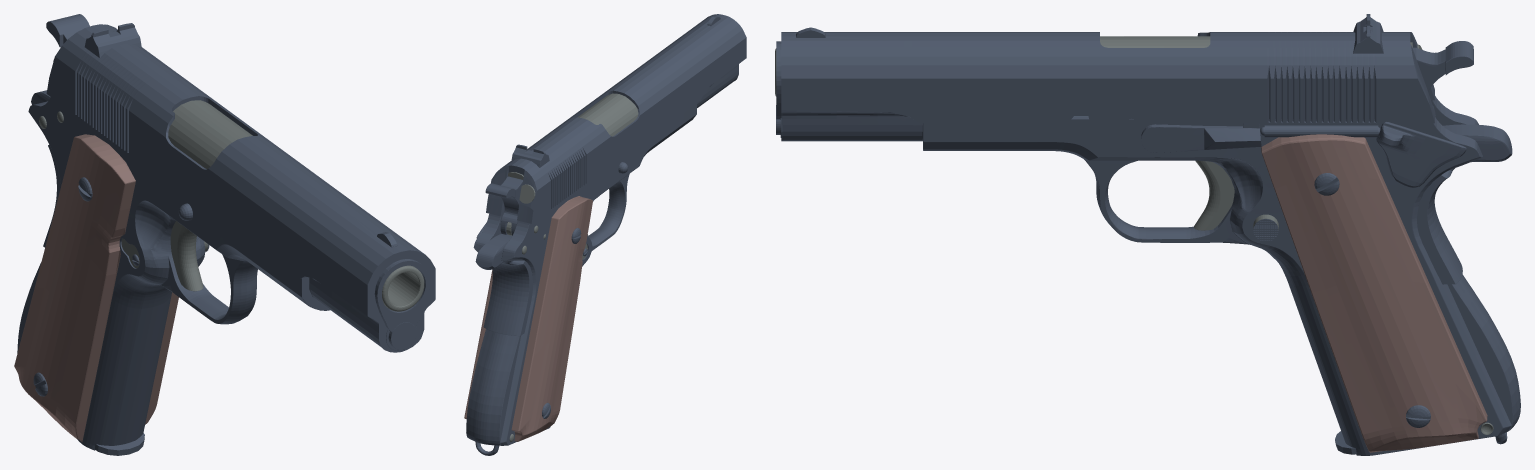
File: gun.glb
The picture shows the model from 3 angles, left to right: view 1: azimuth 30°, elevation 25°; view 2: azimuth 150°, elevation 25°; view 3: azimuth 270°, elevation 25°; orthographic projection. The views are drawn at different scales.
Visible parts, largest first — view 1: Colt; view 2: Colt; view 3: Colt.
Boxes of the visible parts, <box> form: Colt: <box>14,14,435,455</box>; Colt: <box>464,14,746,455</box>; Colt: <box>775,14,1520,455</box>.
Bounding box in the file's own units: 1.19 × 4.59 × 7.34.
